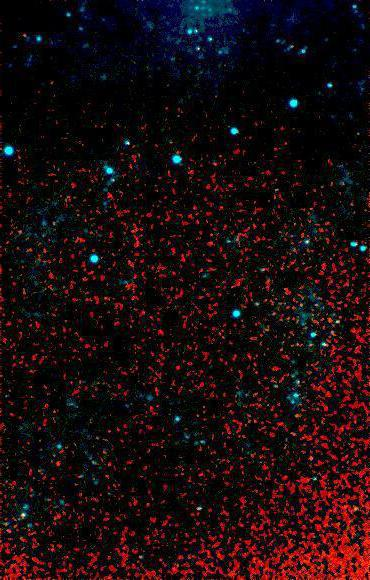star: (294, 441, 324, 471)
